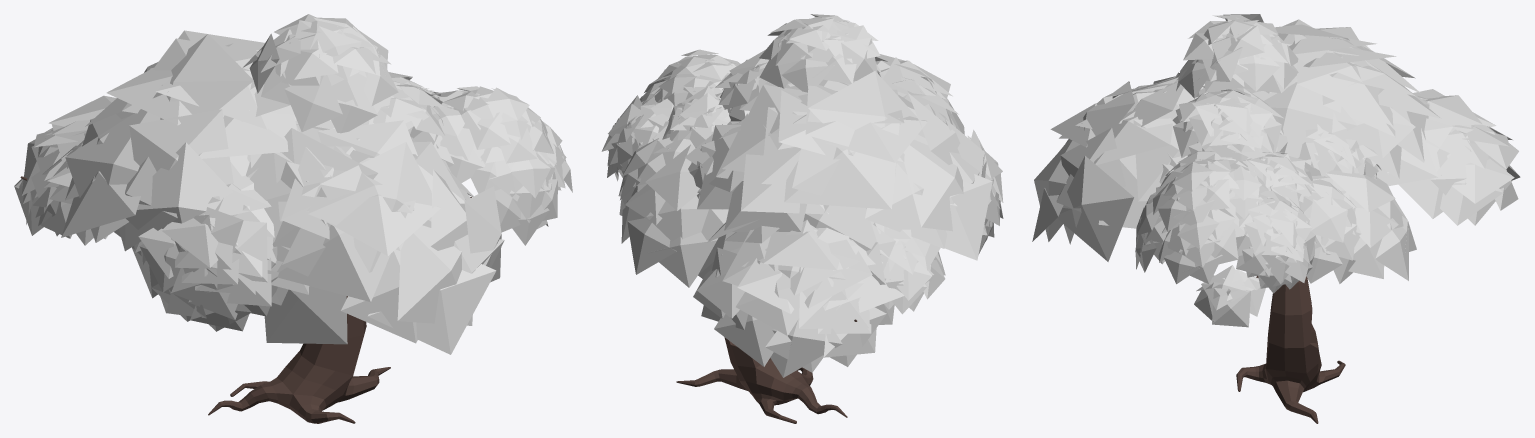
File: Big_tree.fbx
3 renders of one model, left to right at view 1: azimuth 30°, elevation 25°; view 2: azimuth 150°, elevation 25°; view 3: azimuth 270°, elevation 25°, orthographic. The views are drawn at different scales.
Parts seen in each view (by area): view 1: Big_Tree; view 2: Big_Tree; view 3: Big_Tree.
Boxes of the visible parts, x1=… form: Big_Tree: x1=14, y1=14, x2=572, y2=423; Big_Tree: x1=601, y1=14, x2=1003, y2=423; Big_Tree: x1=1032, y1=14, x2=1520, y2=423.
Bounding box in the file's own units: 38.18 × 41.72 × 33.63.
